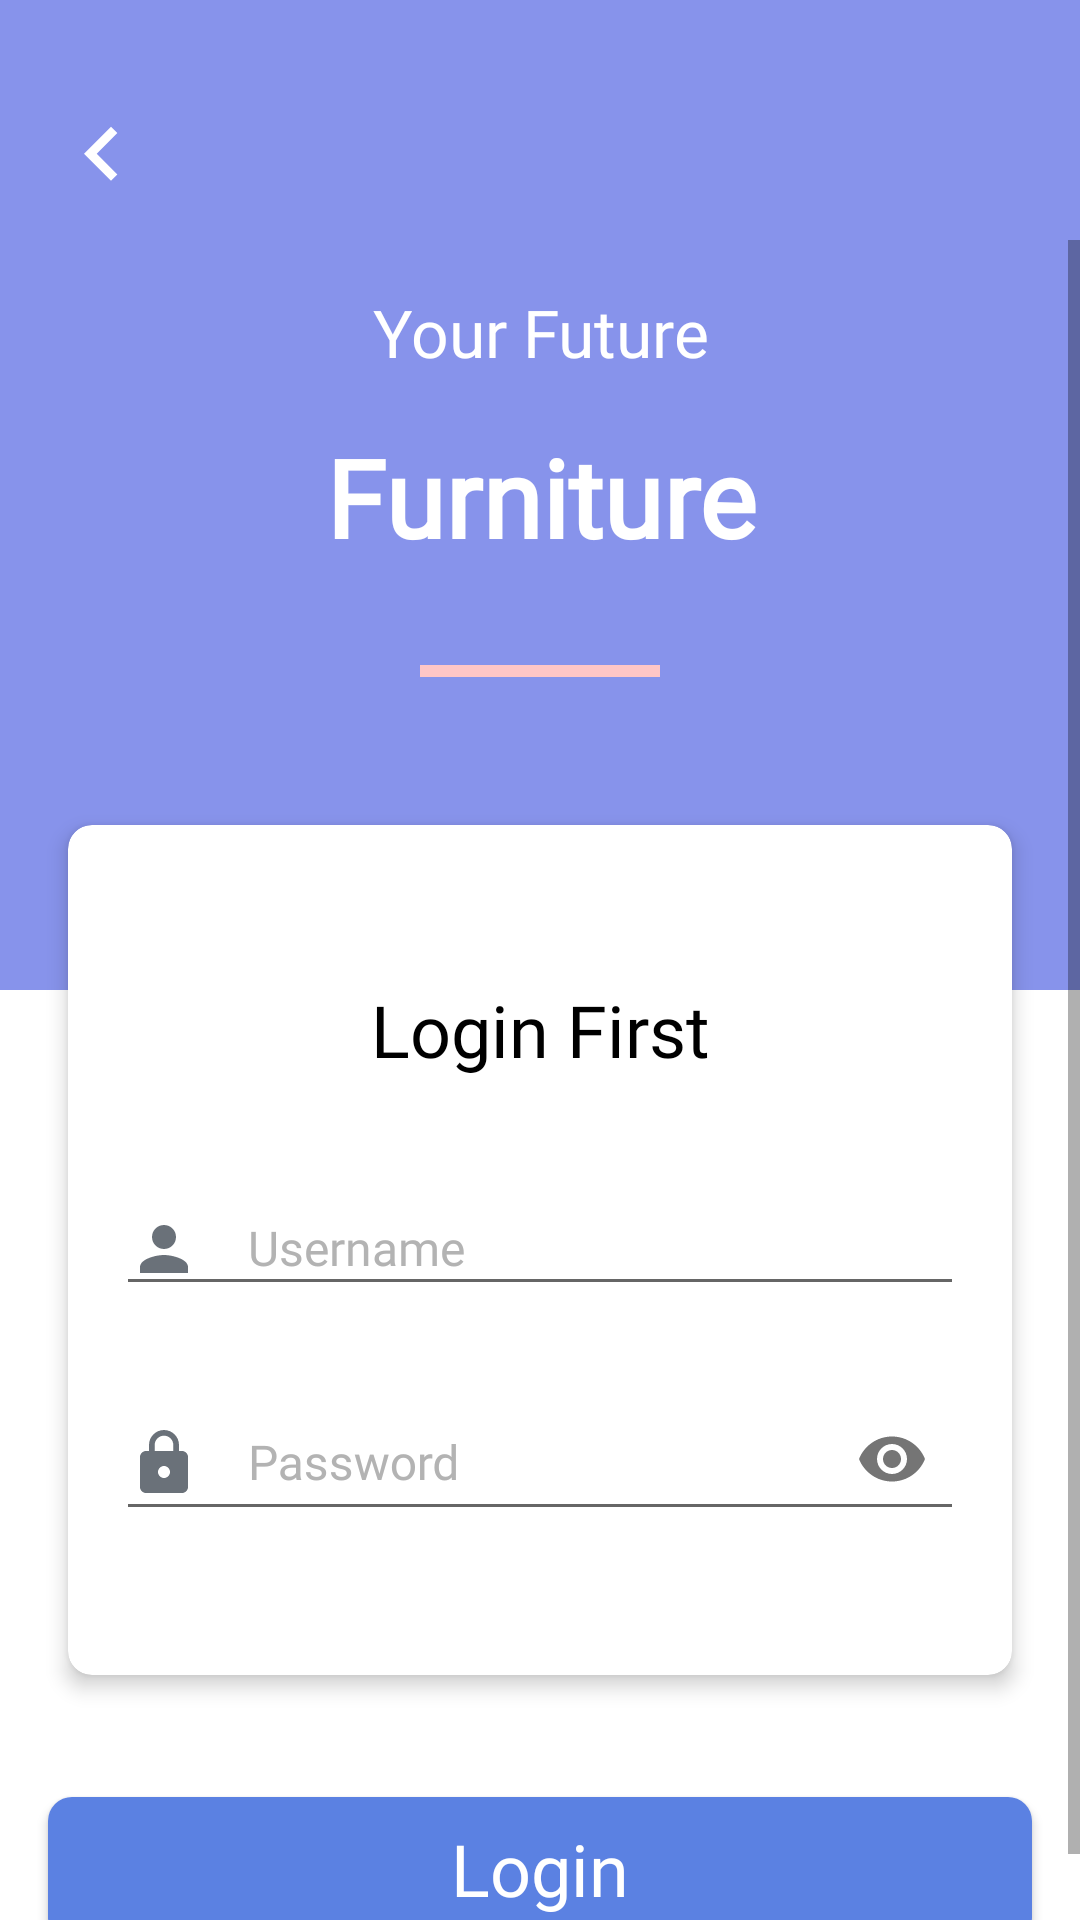

Icons on this 1080 × 1920 Android screen, each with the point to tap as (x,y):
keyboard arrow left: (100,154)
